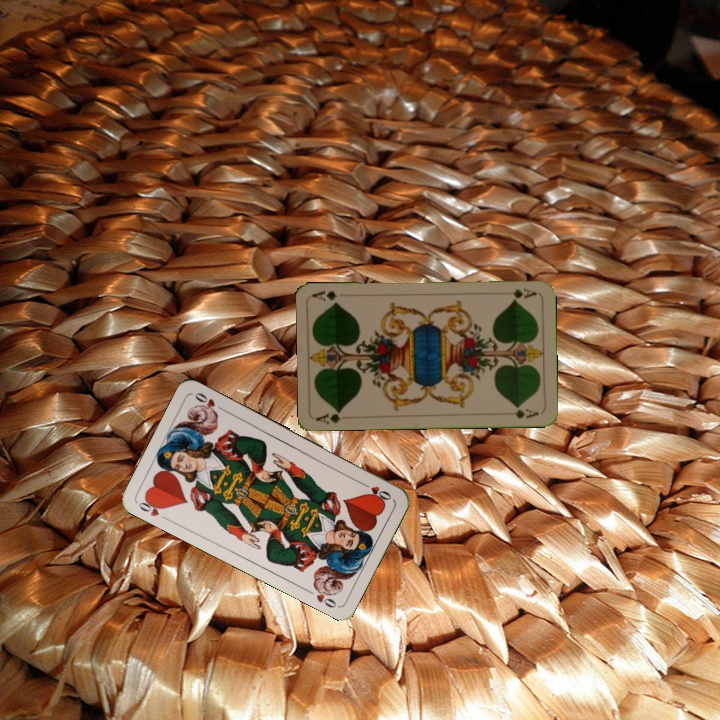GA: (499, 284, 540, 302), (313, 406, 344, 426)
HO: (134, 494, 172, 523), (357, 478, 394, 503)
